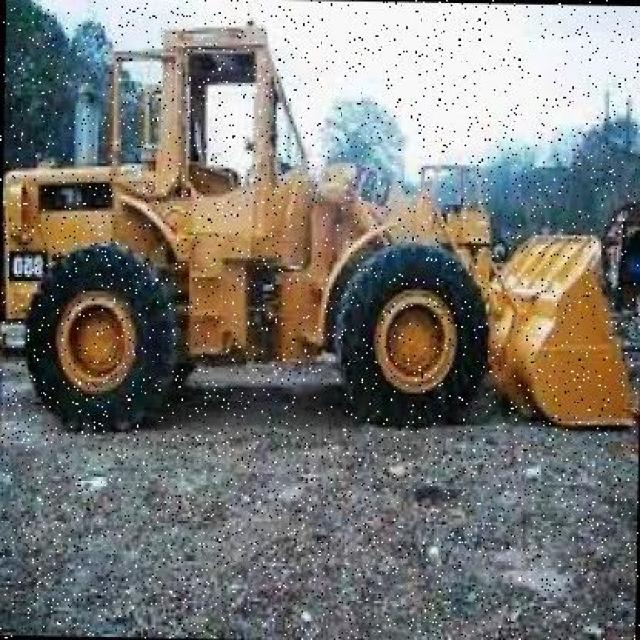bull_dozer/loader/grader: (0, 17, 634, 448)
